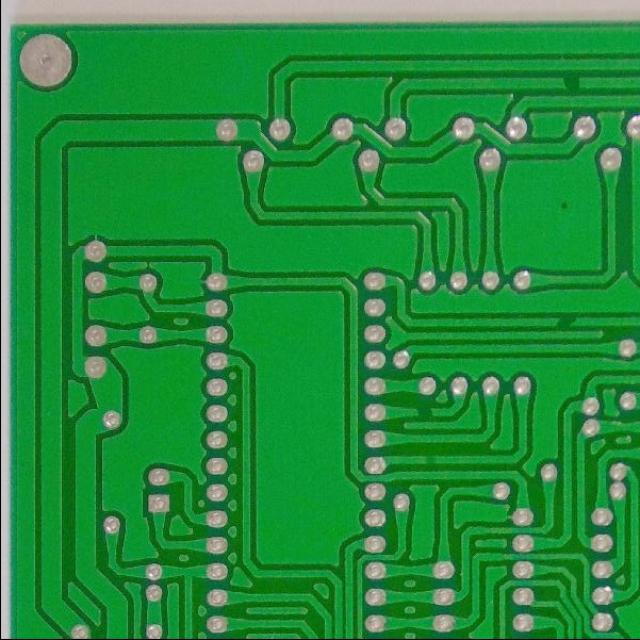open_circuit: (550, 74, 588, 94), (550, 315, 584, 329), (411, 404, 435, 420)
